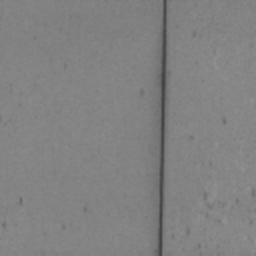Scratches: (154, 0, 168, 256)
